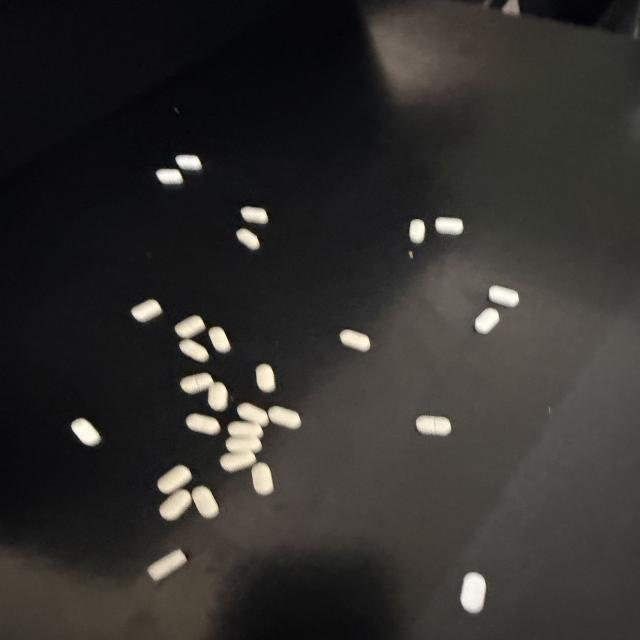pill: (148, 550, 187, 581), (461, 573, 486, 613), (160, 489, 191, 520), (158, 465, 191, 494), (192, 486, 219, 518), (71, 418, 101, 446), (174, 315, 206, 339), (268, 406, 301, 429), (237, 403, 269, 426), (220, 451, 255, 472), (186, 414, 220, 435), (131, 299, 162, 322), (180, 373, 213, 394), (252, 463, 273, 495), (180, 339, 209, 362), (416, 416, 451, 435), (340, 330, 370, 351), (489, 286, 519, 307), (475, 308, 499, 334), (208, 382, 228, 411), (226, 436, 262, 452), (228, 421, 263, 437), (209, 327, 230, 353), (256, 364, 275, 392), (435, 217, 463, 235), (237, 228, 259, 250), (241, 207, 268, 224), (176, 155, 202, 171), (156, 169, 183, 184), (409, 219, 425, 243)
